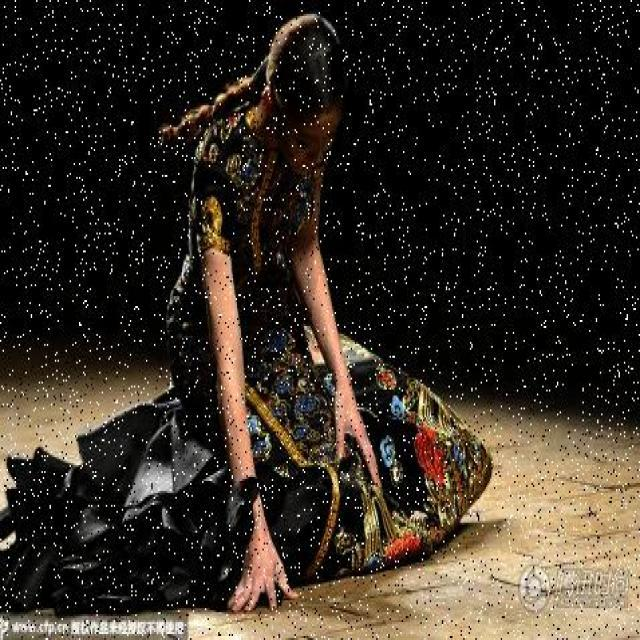fall: (118, 20, 486, 592)
